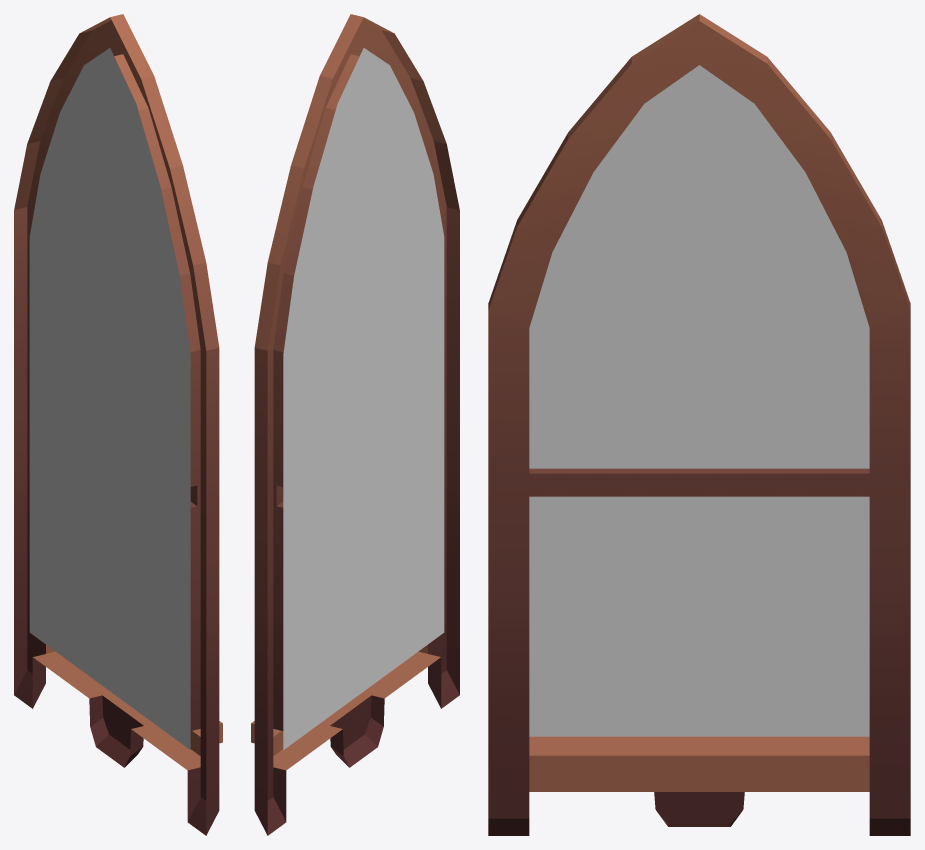
File: Window.fbx
3 renders of one model, left to right at view 1: azimuth 30°, elevation 25°; view 2: azimuth 150°, elevation 25°; view 3: azimuth 270°, elevation 25°, orthographic. The views are drawn at different scales.
Visible parts, largest first — view 1: Window_Plane, Window; view 2: Window_Plane, Window; view 3: Window_Plane, Window.
Part boxes in pixels (x1=…): Window_Plane: x1=29, y1=48, x2=190, y2=749; Window: x1=14, y1=14, x2=222, y2=835; Window_Plane: x1=283, y1=48, x2=444, y2=749; Window: x1=251, y1=14, x2=459, y2=835; Window_Plane: x1=529, y1=65, x2=869, y2=736; Window: x1=488, y1=14, x2=910, y2=835.
Size of the model in its own units: 42.44 by 860 by 400.
